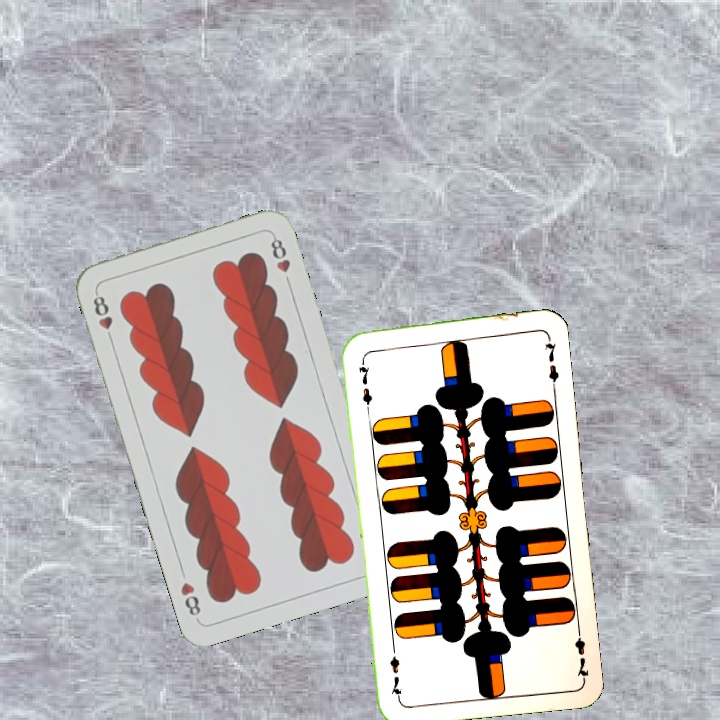E7: (570, 622, 592, 681), (354, 352, 375, 411)
H8: (89, 288, 116, 345)
